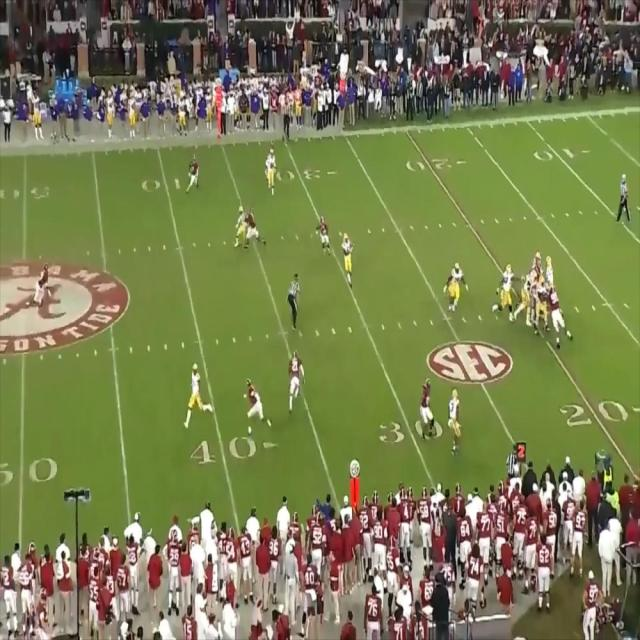db: (246, 378, 268, 430), (291, 351, 304, 412), (37, 264, 49, 304), (321, 215, 331, 252), (189, 158, 198, 192)
lb: (421, 378, 435, 437), (501, 263, 514, 313), (247, 208, 256, 250)
qb: (547, 256, 553, 287)
skill: (187, 361, 202, 420), (449, 393, 461, 452), (344, 233, 356, 288), (233, 208, 248, 250), (266, 148, 274, 190)
